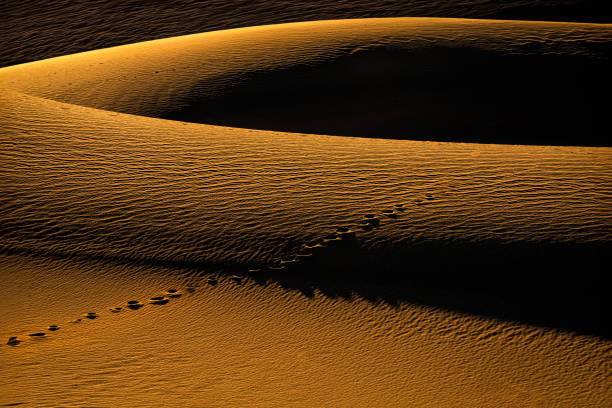human_foot_print: (7, 187, 445, 348)
